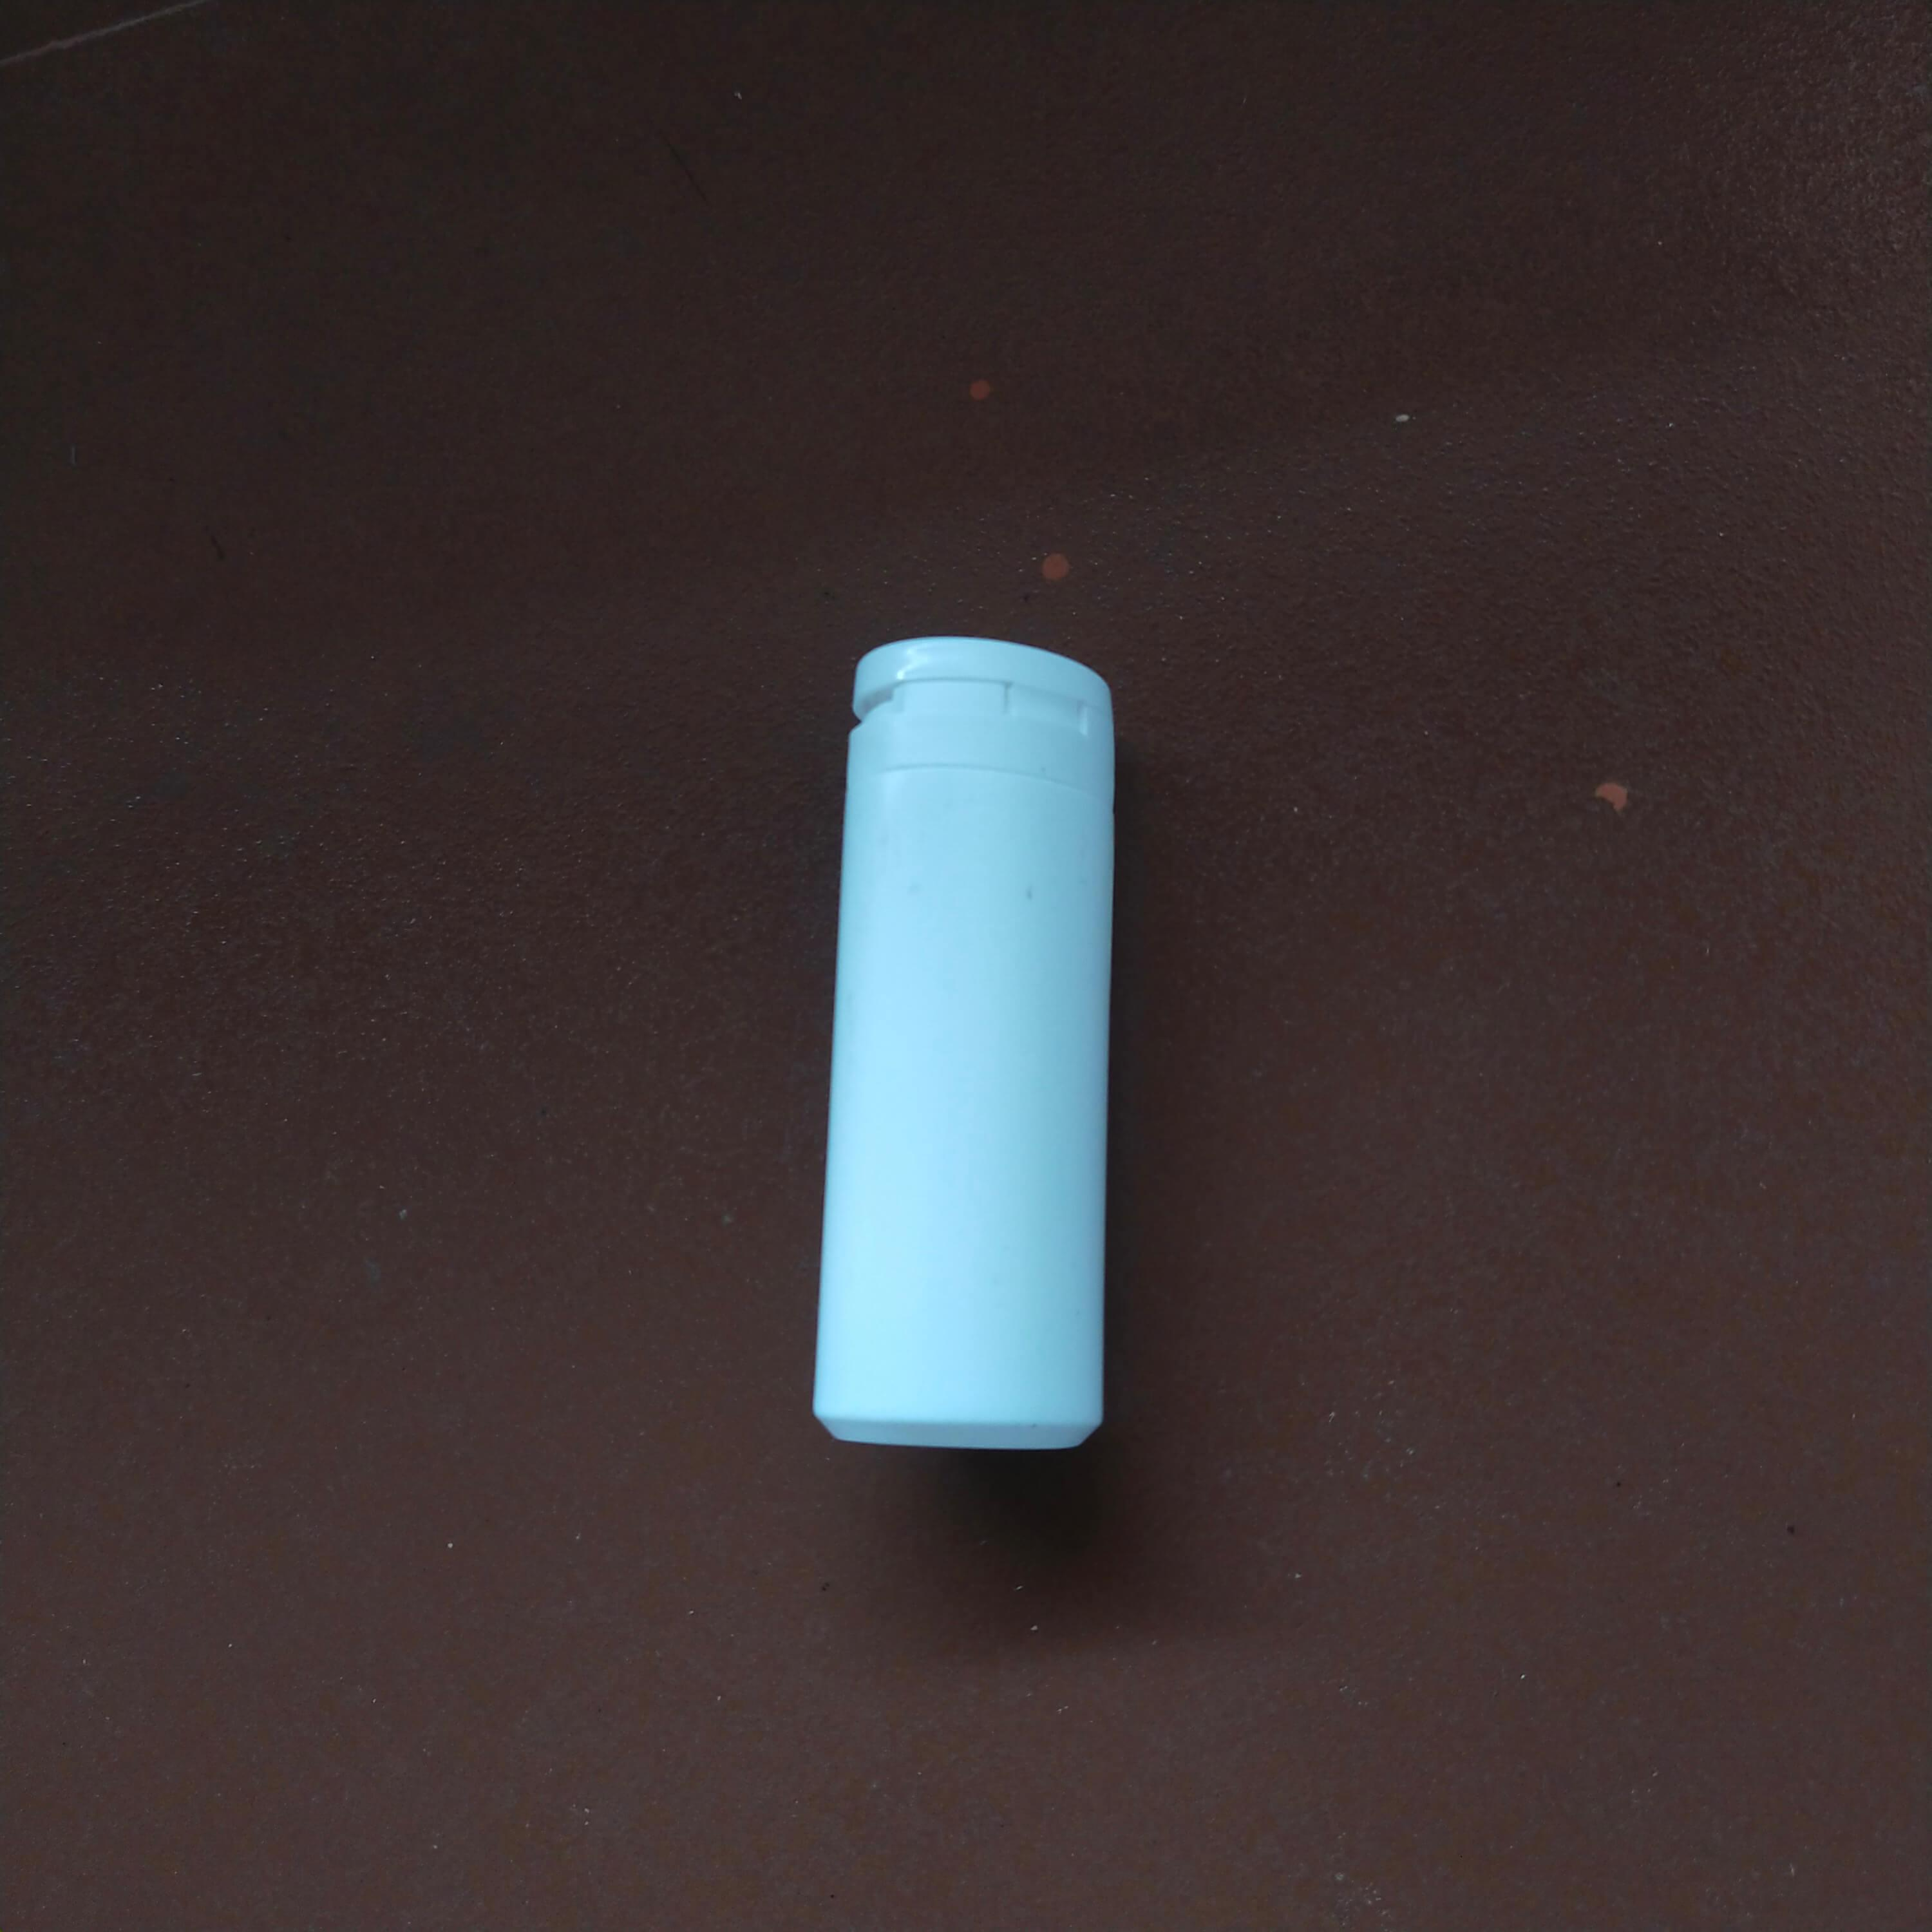plastic box: (748, 584, 1168, 1486)
